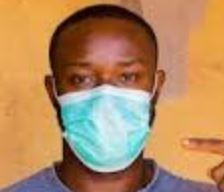with_facemask: (67, 87, 152, 164)
